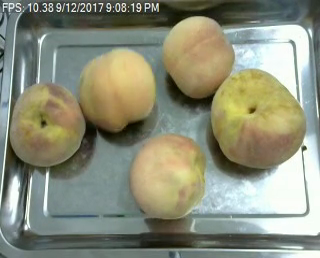Peach: (211, 67, 306, 167), (129, 134, 208, 219), (8, 80, 84, 167), (78, 47, 155, 132), (162, 14, 235, 98)
